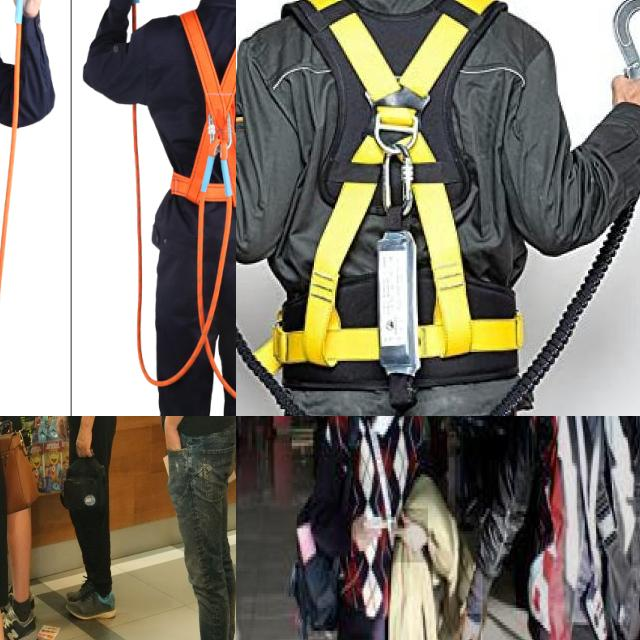Harness: (260, 0, 520, 372), (165, 0, 236, 281)
hand_noglove: (391, 508, 430, 566), (351, 508, 385, 562), (459, 613, 482, 640)
person: (296, 416, 461, 640), (482, 416, 640, 640)
